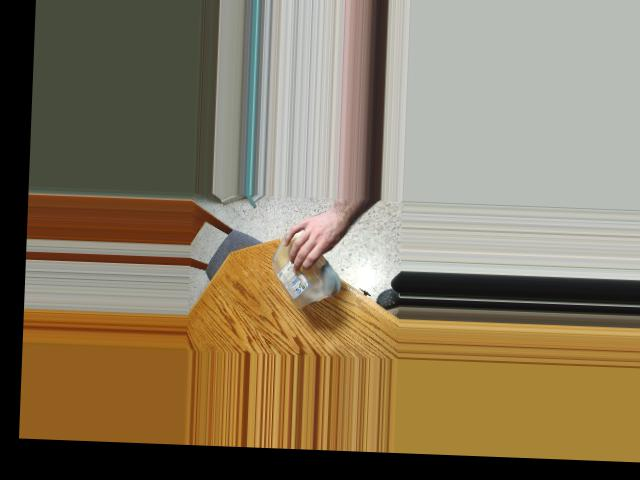cheese: (265, 224, 333, 311)
